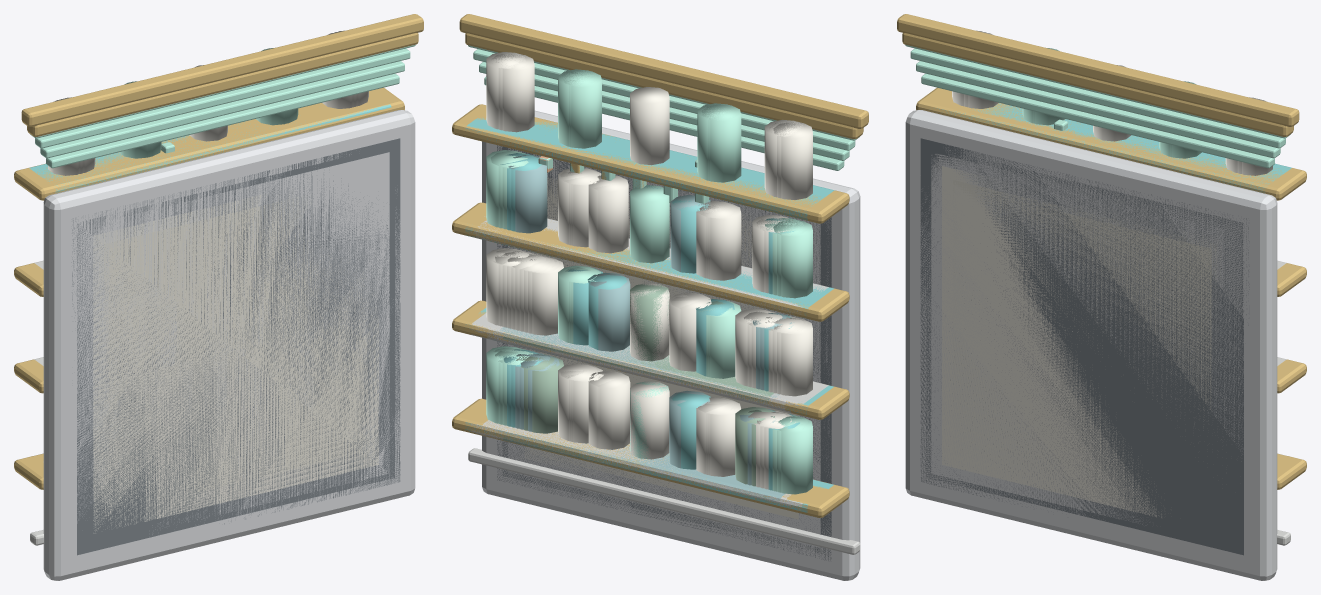
The model's file is Gear02.fbx.
3 renders of one model, left to right at view 1: azimuth 30°, elevation 25°; view 2: azimuth 150°, elevation 25°; view 3: azimuth 330°, elevation 25°, orthographic.
Parts seen in each view (by area): view 1: Gear02_V7_Graphite, Gear02_V4_Linen, Gear02_V10_Platinum, Gear02_V2_Ivory, Gear02_V6_Platinum, Gear02_V9_Platinum, Gear02_V1_Ivory, Gear02_V10_Gold, Gear02_V9_Gold, Gear02_V8_Glow, Gear02_V9_Glow, Gear02_V7_Glow (+5 smaller); view 2: Gear02_V10_Platinum, Gear02_V10_Gold, Gear02_V10_Linen, Gear02_V10_Glow, Gear02_V9_Gold, Gear02_V8_Aqua, Gear02_V1_Sage, Gear02_V8_Glow, Gear02_V9_Glow, Gear02_V6_Platinum, Gear02_V8_Linen, Gear02_V1_Linen (+26 smaller); view 3: Gear02_V7_Graphite, Gear02_V10_Platinum, Gear02_V4_Linen, Gear02_V10_Gold, Gear02_V1_Ivory, Gear02_V6_Platinum, Gear02_V9_Platinum, Gear02_V9_Gold, Gear02_V8_Graphite, Gear02_V8_Glow, Gear02_V9_Glow, Gear02_V7_Glow (+5 smaller).
Part boxes in pixels (bbox=[...]): Gear02_V7_Graphite: bbox=[77, 145, 394, 555]; Gear02_V4_Linen: bbox=[93, 187, 378, 533]; Gear02_V10_Platinum: bbox=[43, 110, 415, 580]; Gear02_V2_Ivory: bbox=[104, 197, 367, 479]; Gear02_V6_Platinum: bbox=[83, 152, 389, 524]; Gear02_V9_Platinum: bbox=[66, 131, 405, 545]; Gear02_V1_Ivory: bbox=[109, 212, 362, 497]; Gear02_V10_Gold: bbox=[14, 14, 423, 489]; Gear02_V9_Gold: bbox=[24, 33, 418, 194]; Gear02_V8_Glow: bbox=[40, 49, 404, 158]; Gear02_V9_Glow: bbox=[35, 48, 410, 157]; Gear02_V7_Glow: bbox=[46, 73, 399, 168]; Gear02_V10_Platinum: bbox=[482, 110, 860, 580]; Gear02_V10_Gold: bbox=[452, 14, 868, 517]; Gear02_V10_Linen: bbox=[486, 52, 812, 476]; Gear02_V10_Glow: bbox=[468, 45, 859, 494]; Gear02_V9_Gold: bbox=[459, 33, 863, 513]; Gear02_V8_Aqua: bbox=[465, 117, 835, 512]; Gear02_V1_Sage: bbox=[503, 284, 774, 503]; Gear02_V8_Glow: bbox=[479, 62, 849, 491]; Gear02_V9_Glow: bbox=[473, 49, 855, 492]; Gear02_V6_Platinum: bbox=[508, 148, 820, 547]; Gear02_V8_Linen: bbox=[495, 54, 803, 474]; Gear02_V1_Linen: bbox=[530, 258, 773, 459]; Gear02_V7_Graphite: bbox=[926, 153, 1243, 555]; Gear02_V10_Platinum: bbox=[905, 110, 1277, 580]; Gear02_V4_Linen: bbox=[942, 166, 1226, 517]; Gear02_V10_Gold: bbox=[897, 14, 1306, 489]; Gear02_V1_Ivory: bbox=[958, 200, 1211, 477]; Gear02_V6_Platinum: bbox=[931, 154, 1237, 525]; Gear02_V9_Platinum: bbox=[915, 139, 1254, 537]; Gear02_V9_Gold: bbox=[902, 33, 1297, 458]; Gear02_V8_Graphite: bbox=[920, 138, 1249, 506]; Gear02_V8_Glow: bbox=[916, 49, 1280, 158]; Gear02_V9_Glow: bbox=[910, 48, 1285, 157]; Gear02_V7_Glow: bbox=[921, 73, 1274, 168].
Bounding box in the file's own units: 103 × 117 × 18.5.
